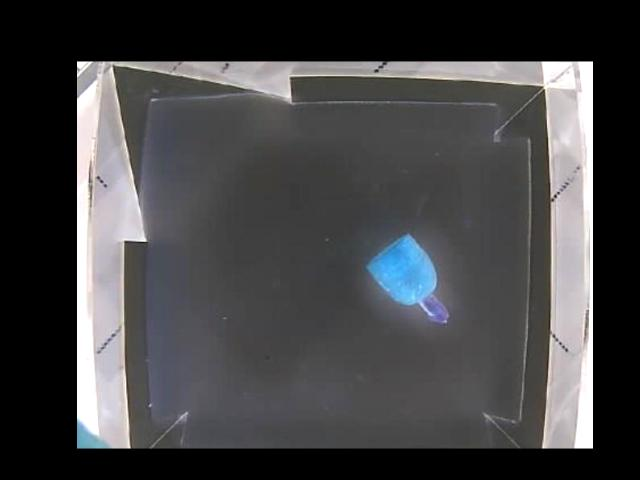Carrot: (370, 234, 451, 325)
